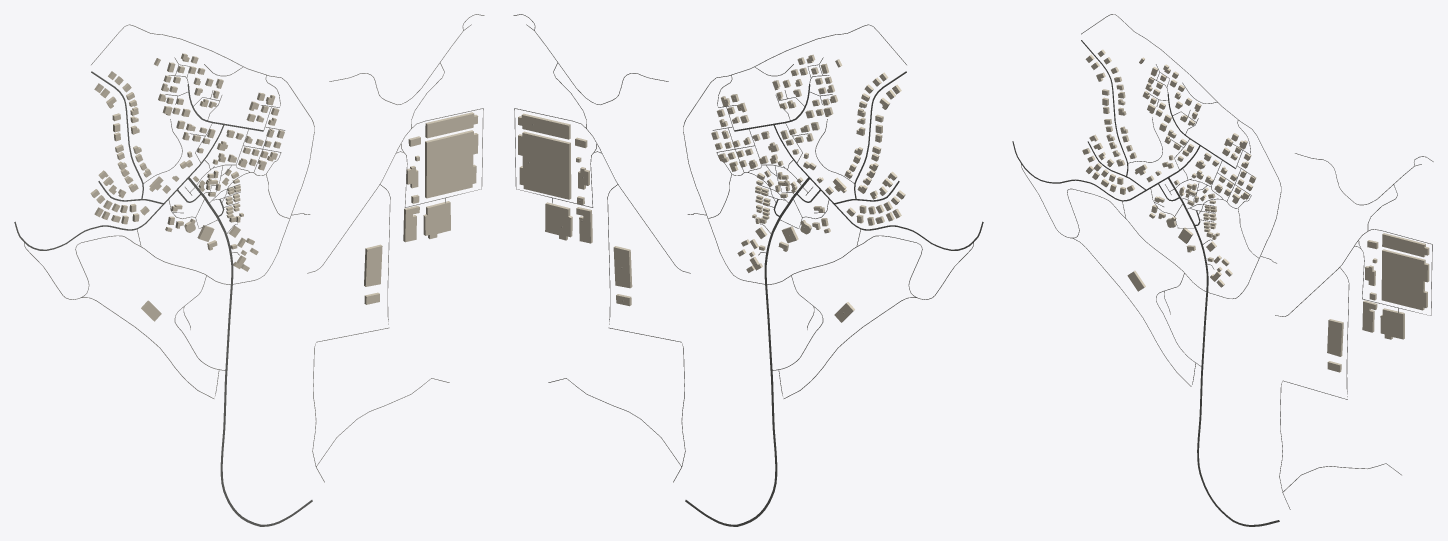
The model's file is historic-palestine-13_29_3553_3234.glb.
3 views of the same model, side by side, from view 1: azimuth 30°, elevation 25°; view 2: azimuth 150°, elevation 25°; view 3: azimuth 330°, elevation 25° (orthographic). The views are drawn at different scales.
Parts seen in each view (by area): view 1: Building_.001, Road .002, Building_.150, Building_, Building_.002, Road .009; view 2: Building_.001, Road .002, Building_.150, Building_, Building_.002, Road .009; view 3: Building_.001, Road .002, Building_.150, Building_, Building_.002.
Part boxes in pixels (bbox=[...]): Building_.001: bbox=[425, 130, 478, 198]; Road .002: bbox=[188, 177, 312, 526]; Building_.150: bbox=[423, 201, 450, 238]; Building_: bbox=[425, 112, 478, 138]; Building_.002: bbox=[364, 244, 382, 286]; Road .009: bbox=[91, 24, 314, 284]; Building_.001: bbox=[518, 131, 571, 199]; Road .002: bbox=[685, 177, 809, 526]; Building_.150: bbox=[545, 202, 572, 240]; Building_: bbox=[518, 113, 570, 139]; Building_.002: bbox=[613, 246, 632, 288]; Road .009: bbox=[683, 24, 906, 284]; Building_.001: bbox=[1381, 249, 1429, 310]; Road .002: bbox=[1168, 177, 1279, 526]; Building_.150: bbox=[1380, 308, 1404, 339]; Building_: bbox=[1382, 233, 1429, 257]; Building_.002: bbox=[1327, 319, 1343, 356].
Size of the model in its own units: 1114 by 1213 by 8.7.
